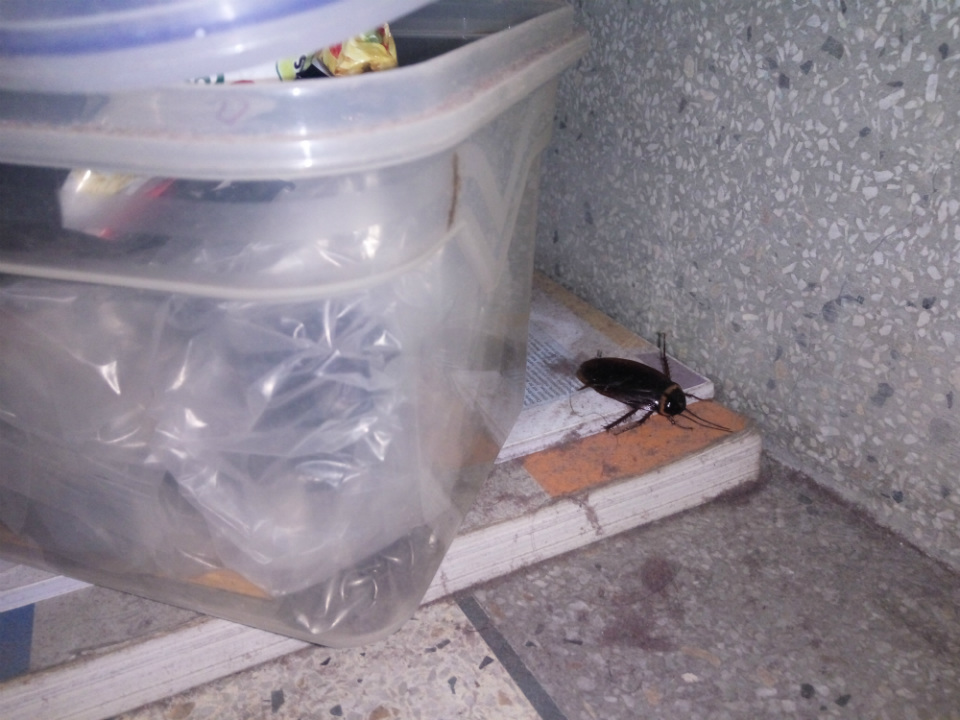cockroach: (558, 322, 738, 445)
